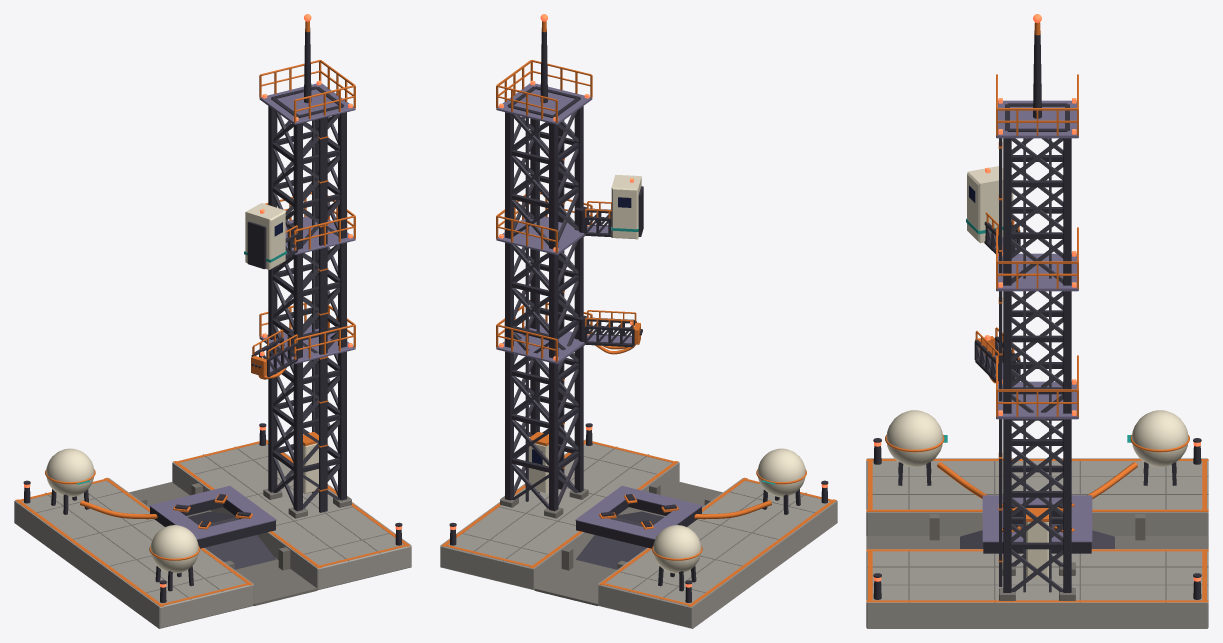
The model's file is launch_pad.glb.
3 renders of one model, left to right at view 1: azimuth 30°, elevation 25°; view 2: azimuth 150°, elevation 25°; view 3: azimuth 270°, elevation 25°, orthographic. The views are drawn at different scales.
Visible parts, largest first — view 1: pad_concrete, pad_graphite, pad_steel, pad_orange, pad_purpleGrey, pad_concreteDark, pad_creamHull, arm_2_creamHull, arm_2_graphite, arm_1_graphite, arm_1_orange; view 2: pad_concrete, pad_graphite, pad_steel, pad_orange, pad_purpleGrey, pad_concreteDark, pad_creamHull, arm_2_creamHull, arm_1_graphite, arm_2_graphite, arm_1_orange; view 3: pad_concrete, pad_graphite, pad_steel, pad_orange, pad_purpleGrey, pad_creamHull, pad_concreteDark, arm_2_creamHull, arm_1_graphite, pad_emissive.
Boxes of the visible parts, x1=… form: pad_concrete: x1=14, y1=439, x2=411, y2=628; pad_graphite: x1=23, y1=31, x2=402, y2=602; pad_steel: x1=188, y1=110, x2=339, y2=569; pad_orange: x1=15, y1=21, x2=410, y2=606; pad_purpleGrey: x1=149, y1=83, x2=355, y2=539; pad_concreteDark: x1=33, y1=446, x2=389, y2=605; pad_creamHull: x1=46, y1=443, x2=318, y2=573; arm_2_creamHull: x1=245, y1=203, x2=285, y2=269; arm_2_graphite: x1=247, y1=221, x2=298, y2=269; arm_1_graphite: x1=251, y1=336, x2=298, y2=376; arm_1_orange: x1=251, y1=329, x2=297, y2=379; pad_concrete: x1=440, y1=439, x2=837, y2=628; pad_graphite: x1=449, y1=31, x2=828, y2=602; pad_steel: x1=512, y1=110, x2=663, y2=569; pad_orange: x1=441, y1=21, x2=836, y2=606; pad_purpleGrey: x1=496, y1=83, x2=702, y2=539; pad_concreteDark: x1=462, y1=446, x2=818, y2=605; pad_creamHull: x1=529, y1=443, x2=805, y2=573; arm_2_creamHull: x1=611, y1=174, x2=641, y2=239; arm_1_graphite: x1=579, y1=317, x2=642, y2=347; arm_2_graphite: x1=579, y1=186, x2=643, y2=237; arm_1_orange: x1=585, y1=310, x2=640, y2=354; pad_concrete: x1=866, y1=458, x2=1208, y2=628; pad_graphite: x1=873, y1=34, x2=1201, y2=599; pad_steel: x1=960, y1=138, x2=1114, y2=592; pad_orange: x1=866, y1=22, x2=1208, y2=602; pad_purpleGrey: x1=982, y1=100, x2=1092, y2=542; pad_creamHull: x1=886, y1=410, x2=1188, y2=578; pad_concreteDark: x1=866, y1=461, x2=1208, y2=602; arm_2_creamHull: x1=967, y1=166, x2=1013, y2=243; arm_1_graphite: x1=974, y1=336, x2=1020, y2=383; pad_emissive: x1=874, y1=14, x2=1200, y2=581.
Bounding box in the file's own units: 12 × 23.06 × 12.
